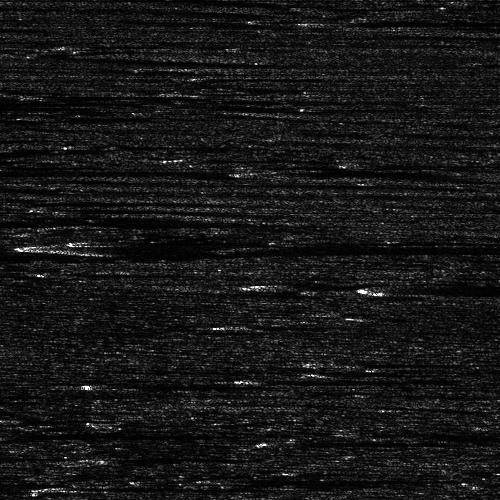rock: (317, 278, 452, 297), (0, 480, 158, 493), (309, 8, 362, 37), (28, 237, 111, 254), (55, 453, 128, 464), (39, 382, 132, 389), (207, 376, 290, 383), (272, 358, 355, 365), (0, 427, 40, 440), (249, 437, 302, 446), (206, 323, 259, 328), (22, 270, 75, 275), (0, 199, 47, 204), (217, 246, 270, 249), (190, 477, 243, 480)
shadow: (70, 237, 500, 254), (0, 249, 388, 262), (336, 8, 500, 37), (70, 480, 393, 493), (0, 240, 484, 247), (0, 215, 296, 226), (0, 427, 245, 440), (385, 278, 500, 297), (0, 165, 115, 178), (92, 453, 224, 464), (249, 376, 449, 383), (276, 437, 414, 446), (314, 358, 449, 365), (11, 199, 194, 204), (86, 382, 213, 389), (244, 246, 500, 249), (233, 323, 364, 328), (49, 270, 172, 275), (217, 477, 419, 480), (0, 454, 49, 459), (0, 136, 25, 141), (0, 24, 23, 29), (0, 396, 16, 401)
